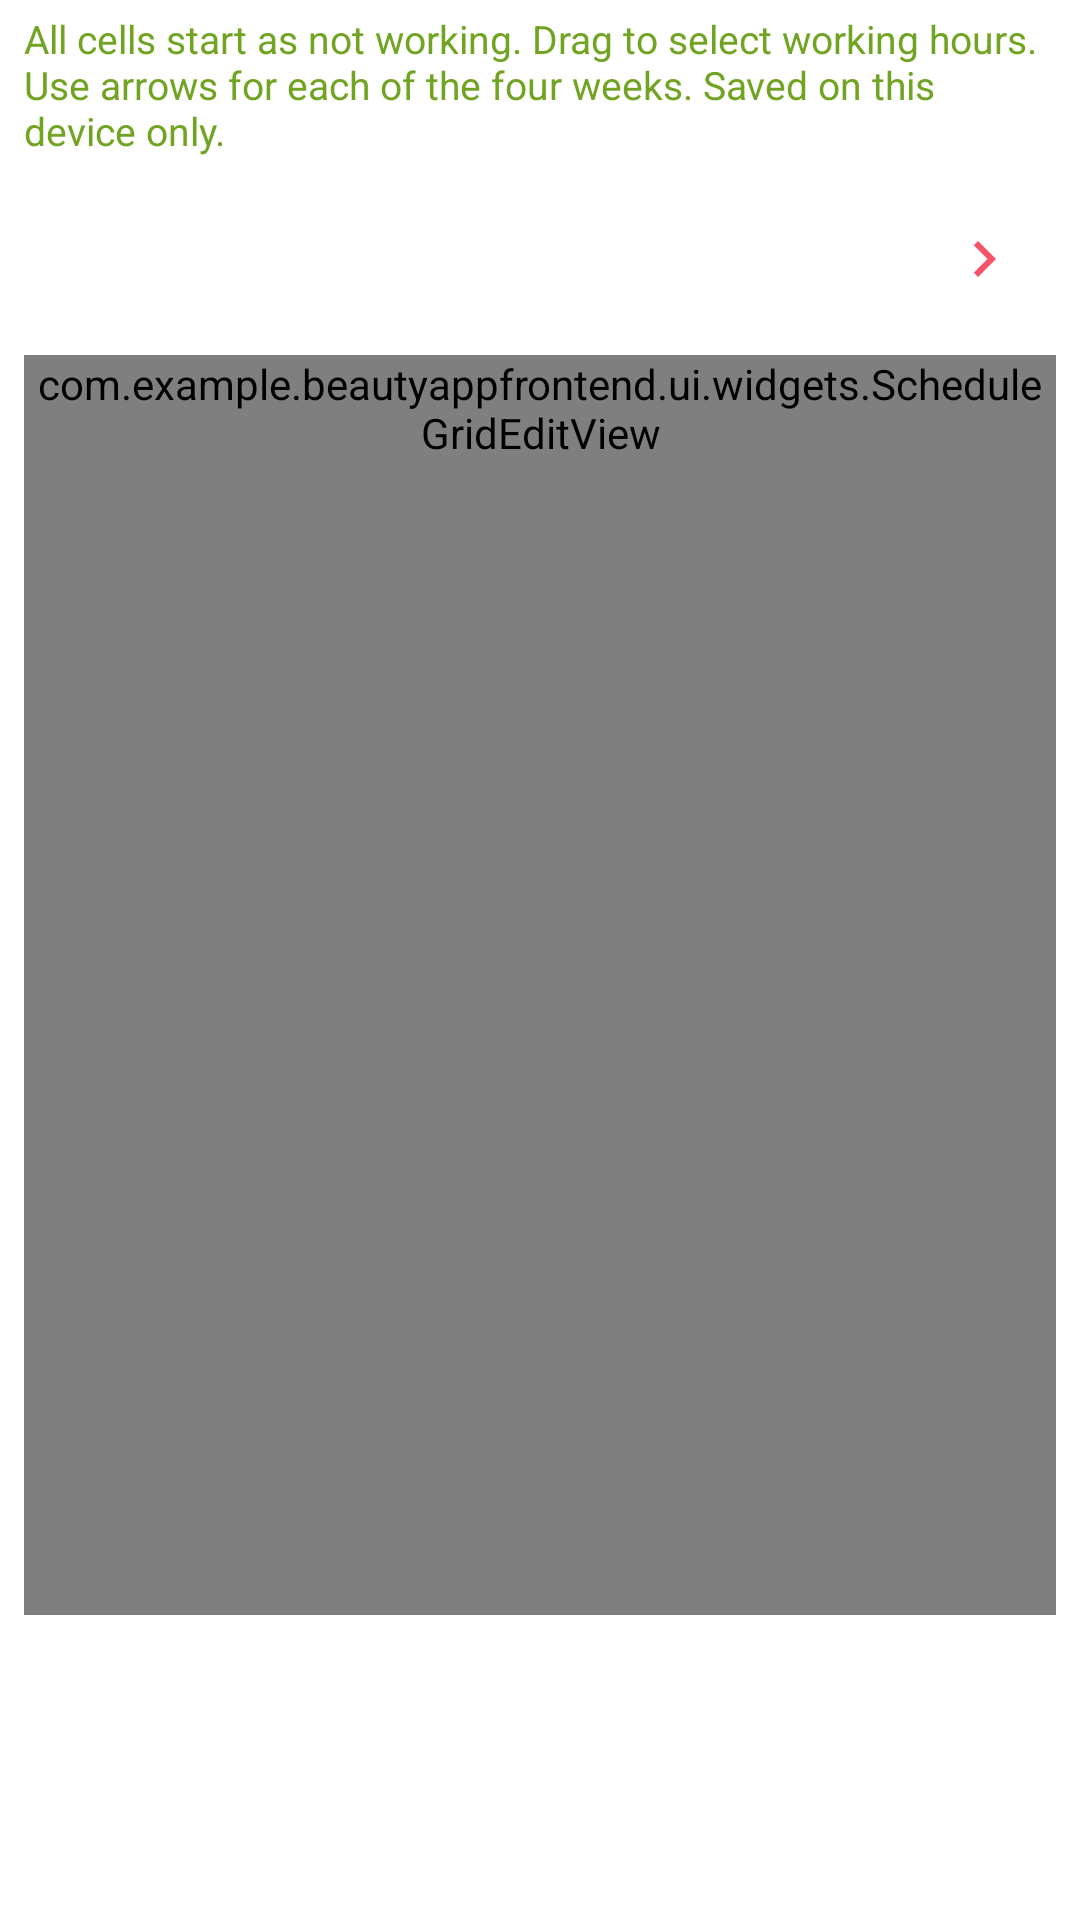

Icon click points for this 1080px×1920px phone screenshot, format point (x, y):
Next week: point (985, 259)
